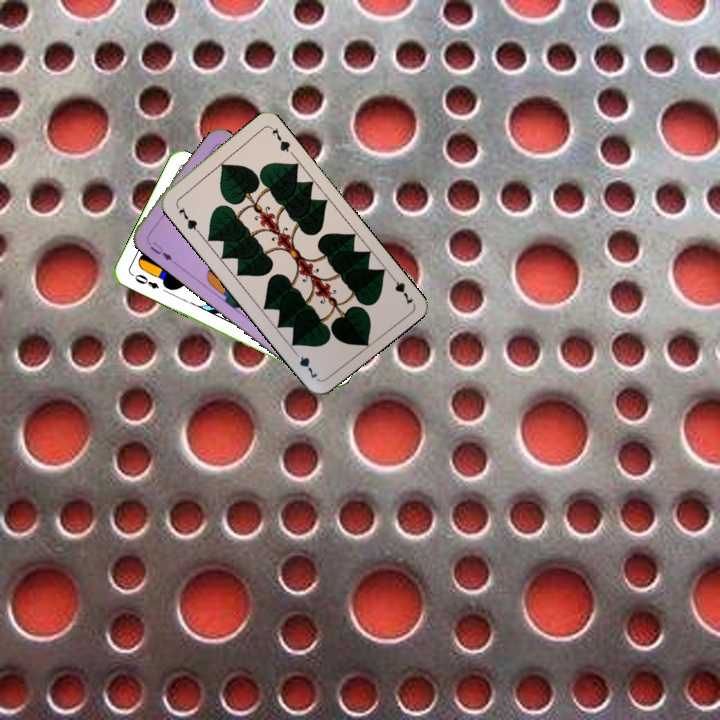EO: (128, 270, 162, 291)
EU: (146, 238, 175, 263)
G7: (386, 270, 416, 307), (172, 200, 202, 235)
